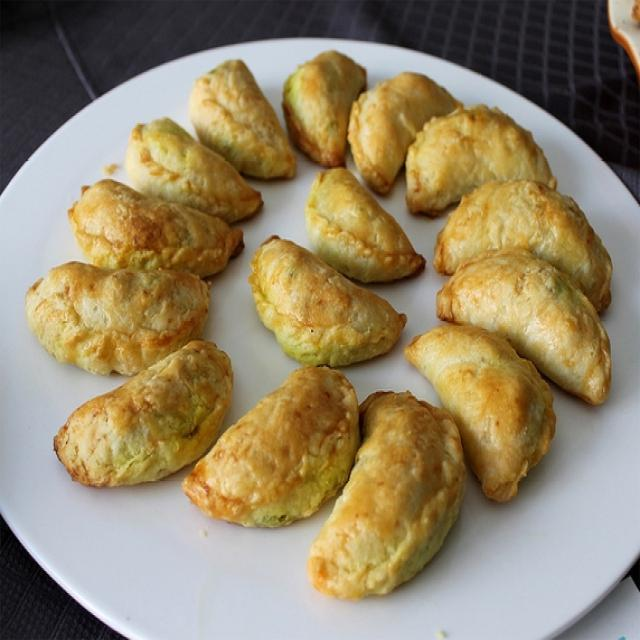炸货点心: (19, 28, 620, 602)
